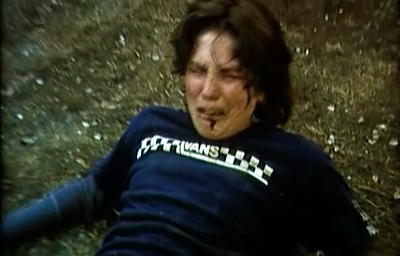face: (183, 38, 255, 140)
mcu: (1, 1, 400, 256)
person: (1, 1, 374, 256)
